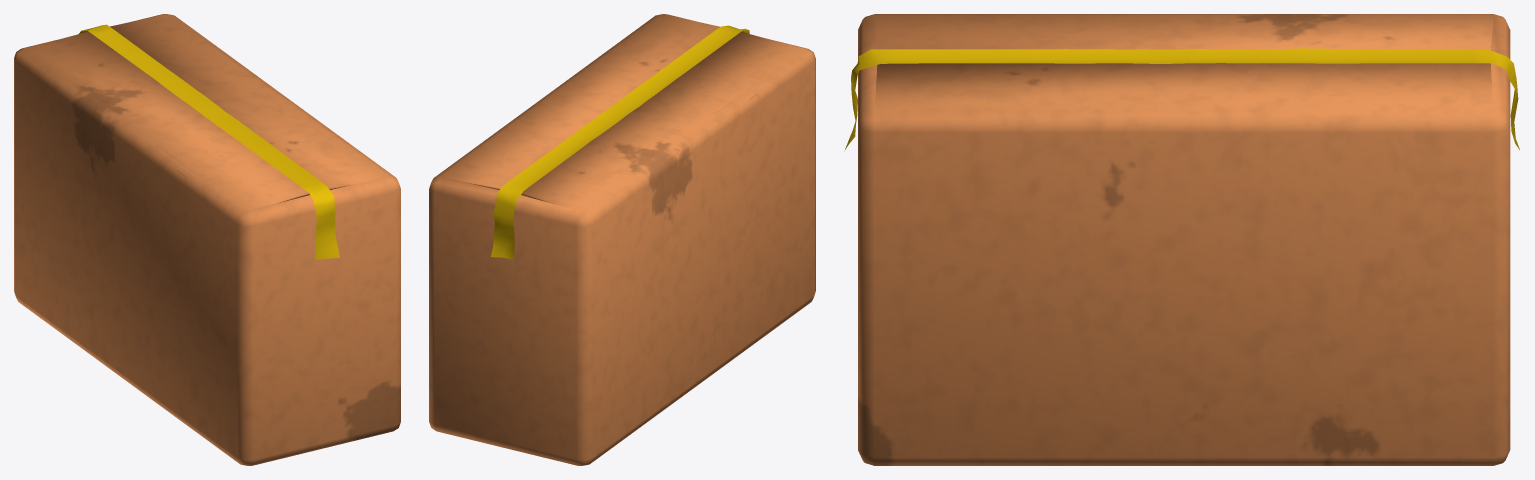
File: CardboardBox(Long).fbx
The picture shows the model from 3 angles, left to right: view 1: azimuth 30°, elevation 25°; view 2: azimuth 150°, elevation 25°; view 3: azimuth 270°, elevation 25°; orthographic projection. The views are drawn at different scales.
Visible parts, largest first — view 1: Cardboardbox.001; view 2: Cardboardbox.001; view 3: Cardboardbox.001.
Boxes of the visible parts, x1,y1,x2,y2 form: Cardboardbox.001: [14, 14, 400, 465]; Cardboardbox.001: [429, 14, 815, 465]; Cardboardbox.001: [845, 14, 1519, 465].
Bounding box in the file's own units: 400 × 612 × 1037.
